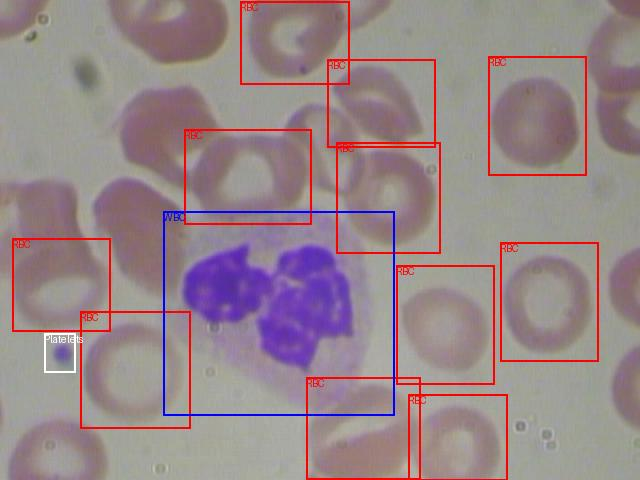Platelets: (44, 333, 75, 372)
RBC: (80, 311, 190, 428), (184, 129, 311, 224), (500, 242, 598, 361), (488, 56, 586, 175), (396, 265, 494, 384), (306, 377, 420, 479), (336, 142, 440, 253), (327, 59, 435, 147), (12, 238, 110, 331), (240, 1, 349, 84), (408, 394, 507, 480)
WBC: (163, 211, 394, 415)
